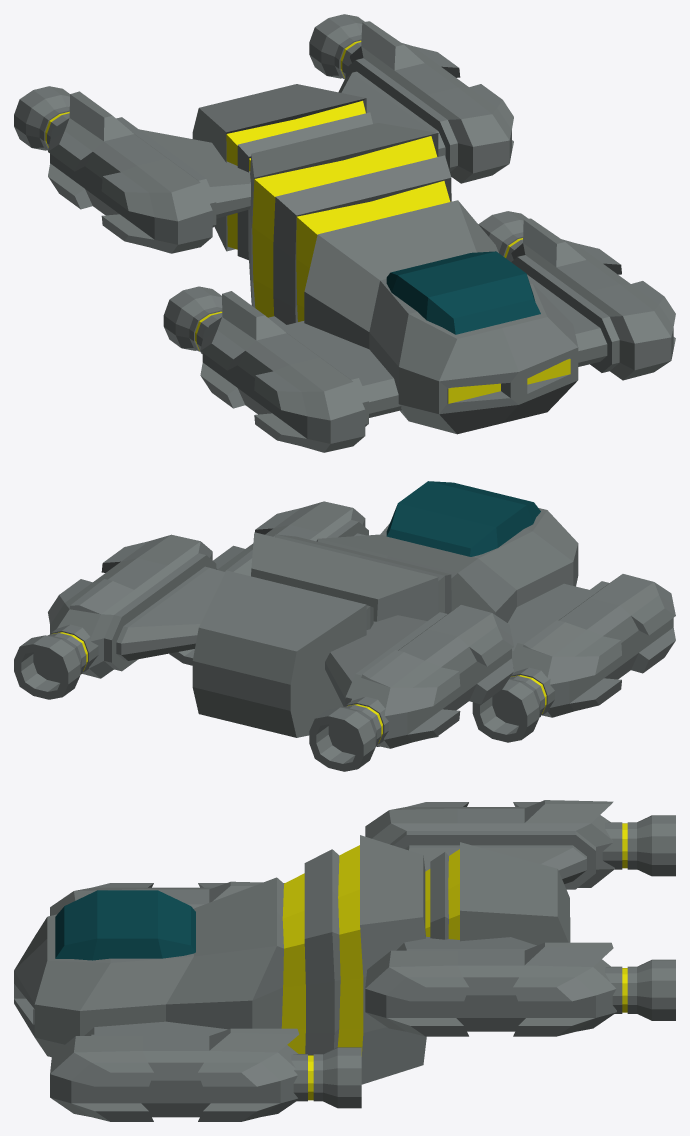
Rendered from spaceship_8.fbx.
3 views of the same model, one above another, from view 1: azimuth 30°, elevation 25°; view 2: azimuth 150°, elevation 25°; view 3: azimuth 270°, elevation 25° (orthographic).
Parts seen in each view (by area): view 1: spaceship.007; view 2: spaceship.007; view 3: spaceship.007.
Part boxes in pixels (x1,y1,x2,y2): spaceship.007: (14, 14, 675, 452); spaceship.007: (14, 481, 675, 771); spaceship.007: (14, 800, 675, 1121).
Size of the model in its own units: 722 by 291 by 1046.
